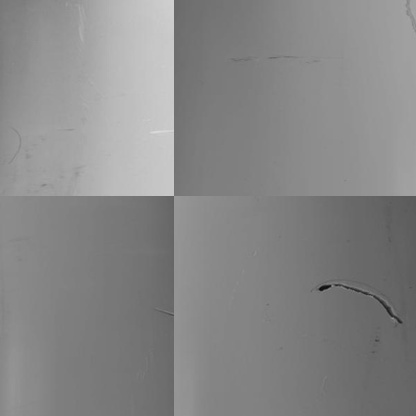fengxi: (315, 274, 400, 324)
